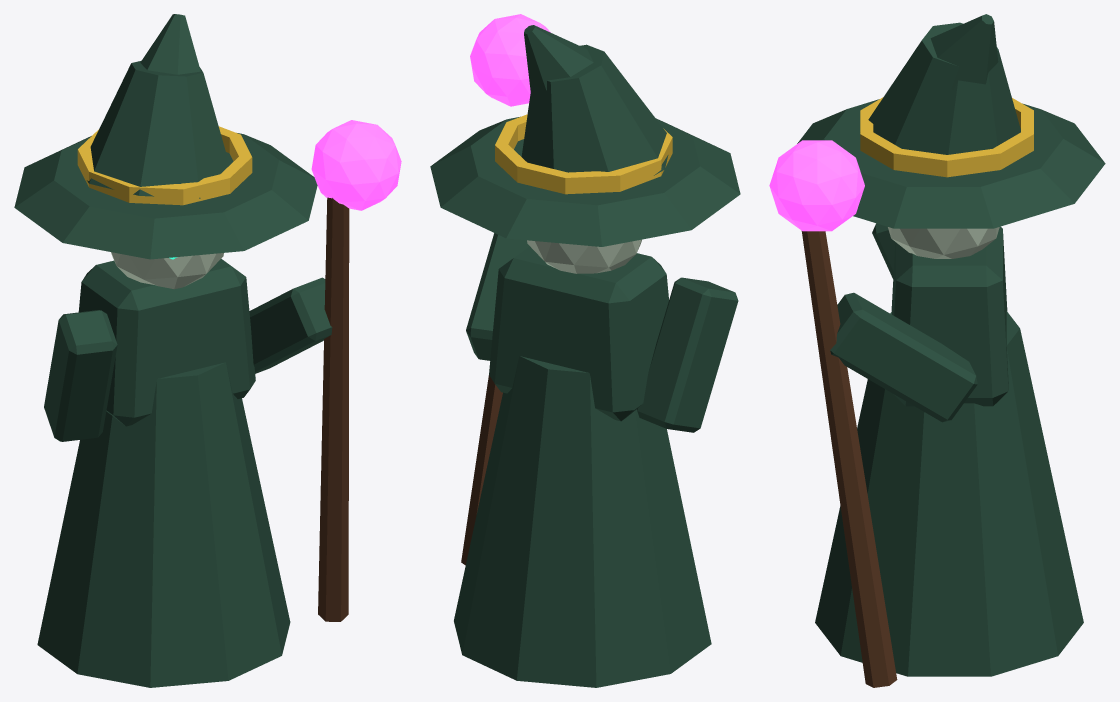
The model's file is EM_Mob_MeadowWitch.glb.
The picture shows the model from 3 angles, left to right: view 1: azimuth 30°, elevation 25°; view 2: azimuth 150°, elevation 25°; view 3: azimuth 270°, elevation 25°; orthographic projection. The views are drawn at different scales.
Parts seen in each view (by area): view 1: MeadowWitch__Body__WitchCloak, MeadowWitch__Head__WitchCloak, MeadowWitch__Staff__StaffWood, MeadowWitch__Staff__HexGlow, MeadowWitch__Staff__WitchCloak, MeadowWitch__Head__GoldMetal, MeadowWitch__Head__WitchSkin; view 2: MeadowWitch__Body__WitchCloak, MeadowWitch__Head__WitchCloak, MeadowWitch__Head__GoldMetal, MeadowWitch__Staff__HexGlow, MeadowWitch__Staff__WitchCloak, MeadowWitch__Head__WitchSkin, MeadowWitch__Staff__StaffWood; view 3: MeadowWitch__Body__WitchCloak, MeadowWitch__Head__WitchCloak, MeadowWitch__Staff__StaffWood, MeadowWitch__Staff__WitchCloak, MeadowWitch__Staff__HexGlow, MeadowWitch__Head__GoldMetal, MeadowWitch__Head__WitchSkin.
Part boxes in pixels (x1,y1,x2,y2): MeadowWitch__Body__WitchCloak: (37, 258, 290, 687); MeadowWitch__Head__WitchCloak: (14, 14, 317, 259); MeadowWitch__Staff__StaffWood: (318, 197, 349, 621); MeadowWitch__Staff__HexGlow: (311, 120, 401, 210); MeadowWitch__Staff__WitchCloak: (249, 277, 332, 373); MeadowWitch__Head__GoldMetal: (77, 126, 252, 205); MeadowWitch__Head__WitchSkin: (111, 252, 223, 289); MeadowWitch__Body__WitchCloak: (454, 246, 738, 687); MeadowWitch__Head__WitchCloak: (430, 25, 740, 246); MeadowWitch__Head__GoldMetal: (495, 114, 672, 194); MeadowWitch__Staff__HexGlow: (470, 14, 550, 106); MeadowWitch__Staff__WitchCloak: (466, 233, 529, 360); MeadowWitch__Head__WitchSkin: (527, 239, 641, 273); MeadowWitch__Staff__StaffWood: (461, 110, 528, 565); MeadowWitch__Body__WitchCloak: (815, 223, 1083, 676); MeadowWitch__Head__WitchCloak: (797, 14, 1105, 228); MeadowWitch__Staff__StaffWood: (801, 231, 897, 687); MeadowWitch__Staff__WitchCloak: (830, 292, 977, 422); MeadowWitch__Staff__HexGlow: (769, 140, 864, 231); MeadowWitch__Head__GoldMetal: (860, 97, 1033, 177); MeadowWitch__Head__WitchSkin: (888, 227, 999, 258).
Bounding box in the file's own units: 2.88 × 5.6 × 2.74.
